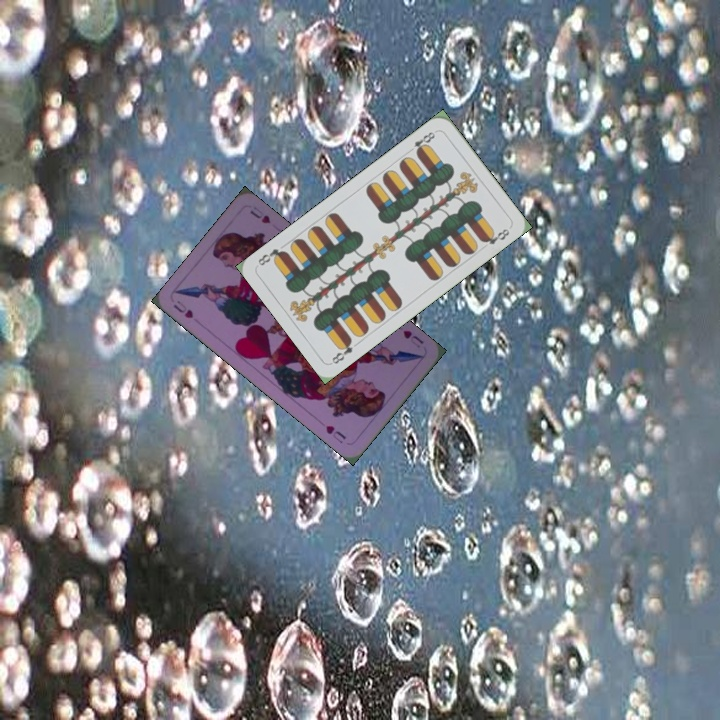E8: (404, 127, 439, 157), (328, 335, 356, 367)
HU: (399, 326, 426, 351), (169, 296, 196, 321)
